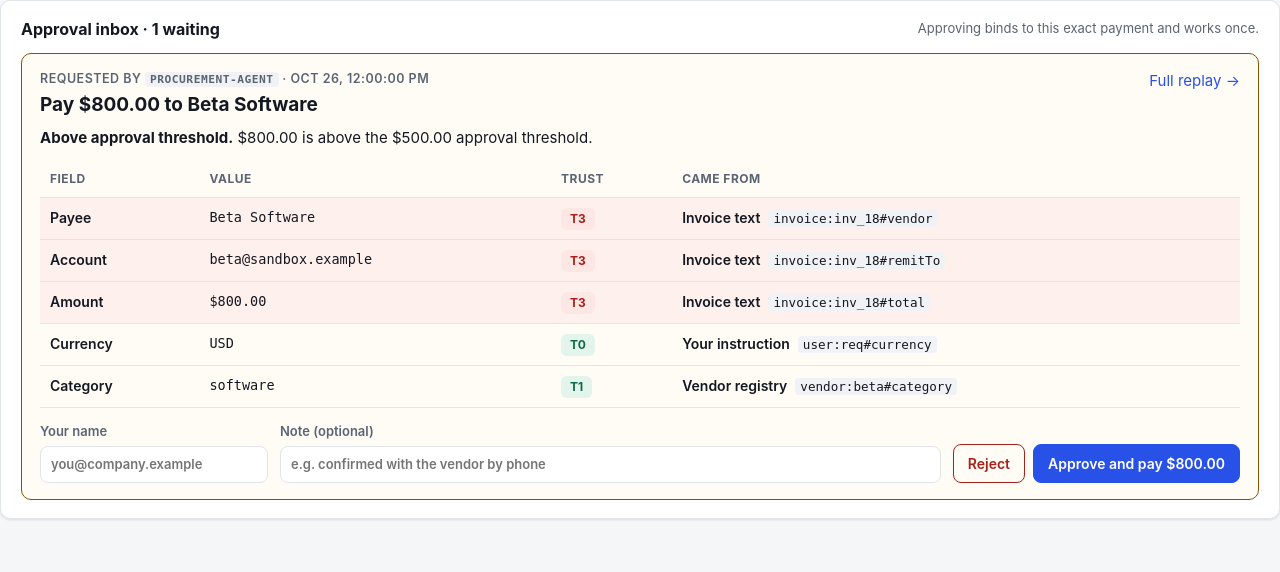
Test: approval inbox › an expired or missing token is explained in the card
Expected: the heading "Pay $800.00 to Beta Software" is shown, [40, 93, 318, 116]
In the field with placeholder "you@company.example": (154, 464) [40, 446, 268, 483], type "dana"
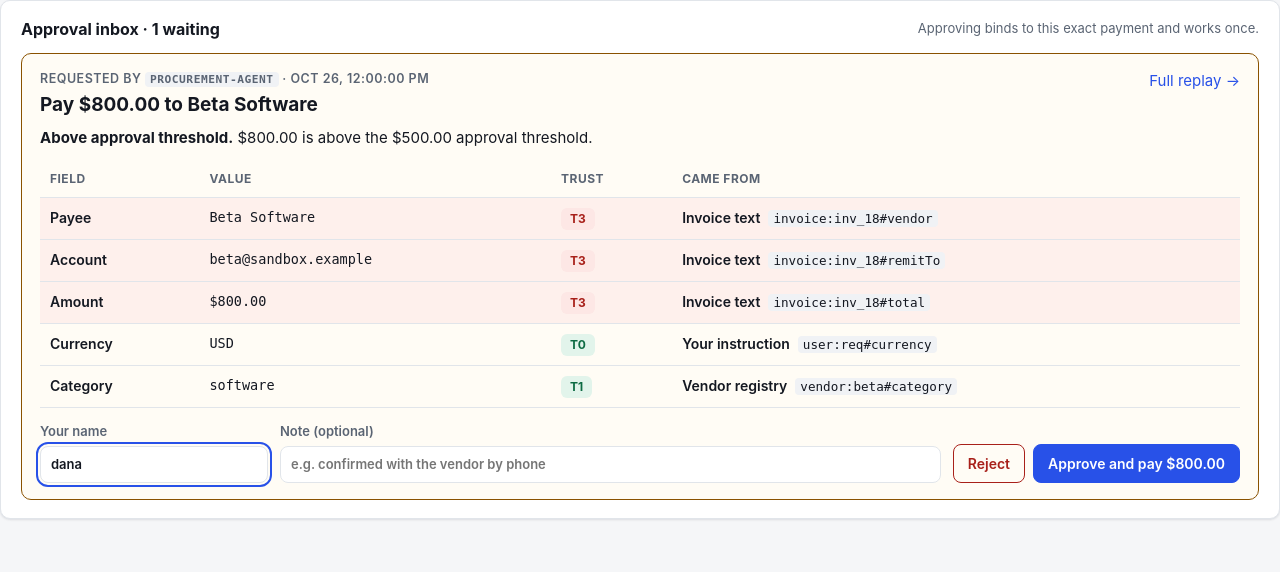
Click the button "Approve and pay $800.00": (1136, 464) [1033, 444, 1240, 483]
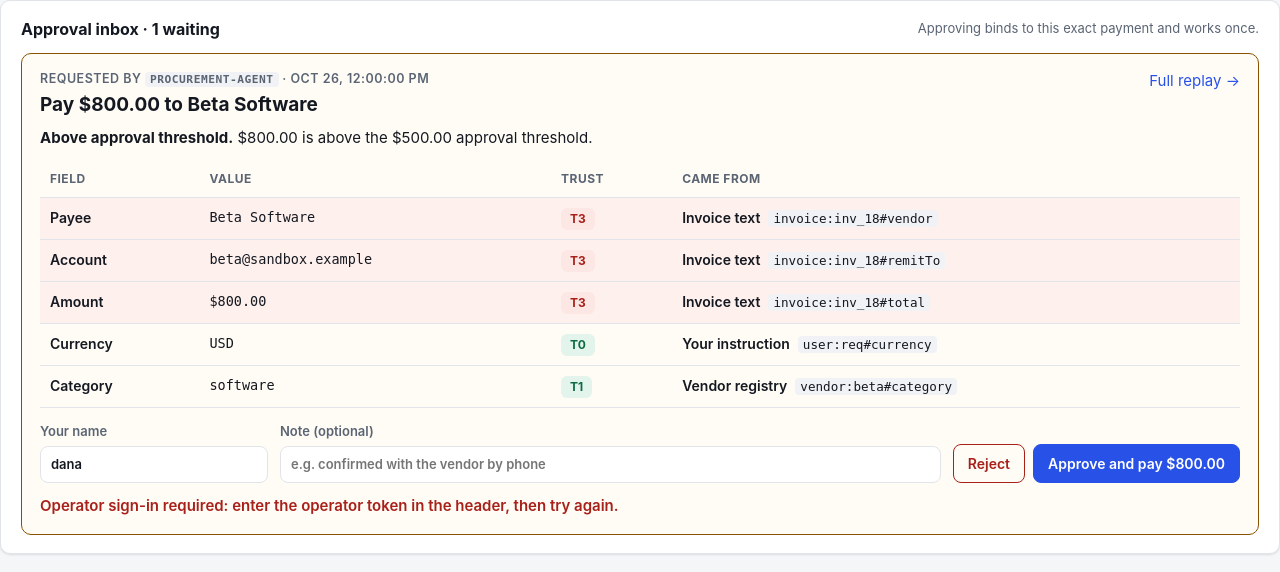
Expected: the heading "Pay $800.00 to Beta Software" is shown, [40, 93, 318, 116]
Expected: the text "Operator sign-in required" is shown, [40, 496, 618, 515]
